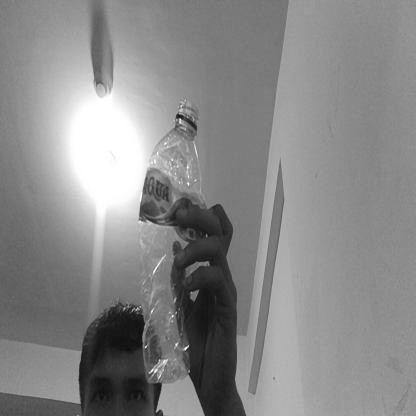plastic_bottles: (138, 99, 206, 385)
